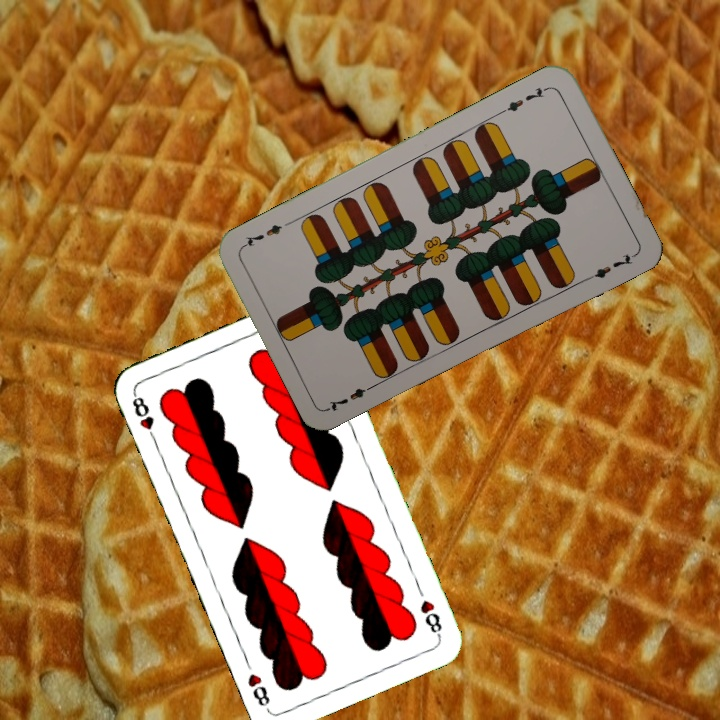E7: (325, 379, 379, 414), (497, 82, 552, 116)
H8: (128, 389, 160, 445), (416, 595, 445, 640)
